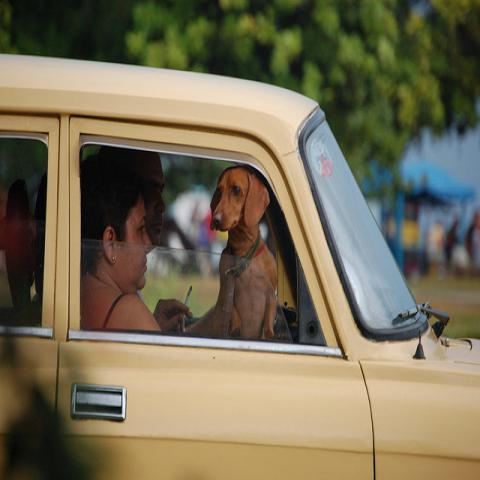car: (1, 49, 478, 473)
